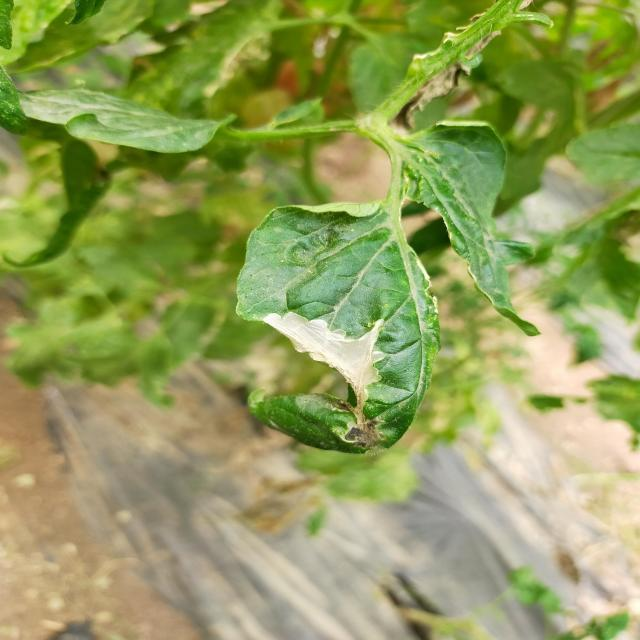Tuta absoluta: (261, 311, 386, 446)
